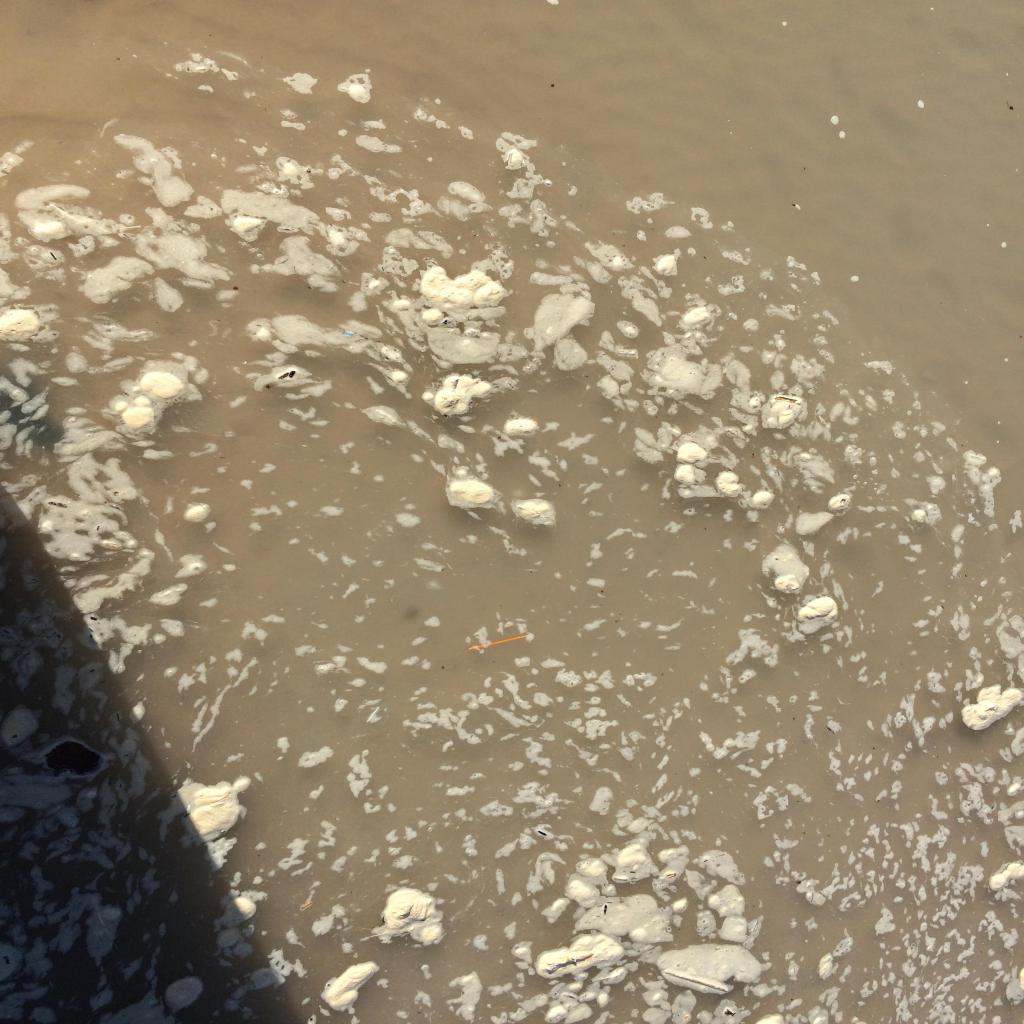Plastic straw: (468, 635, 528, 651)
